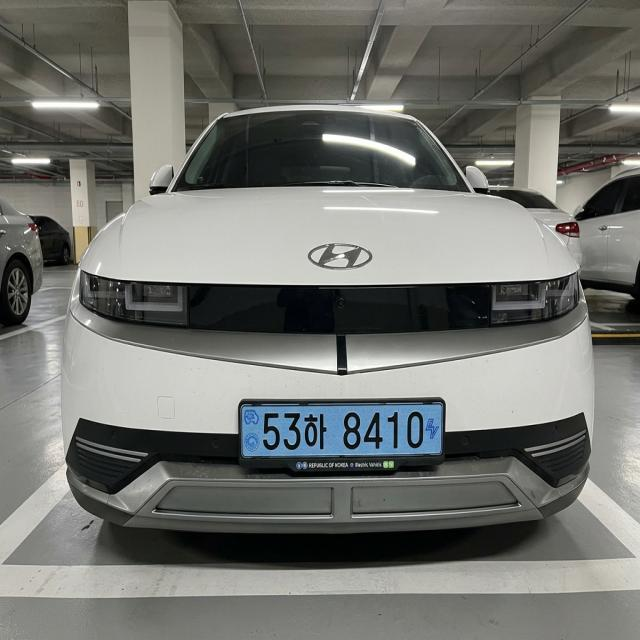car: (224, 389, 465, 488)
carev: (419, 401, 446, 458), (237, 400, 261, 460)
